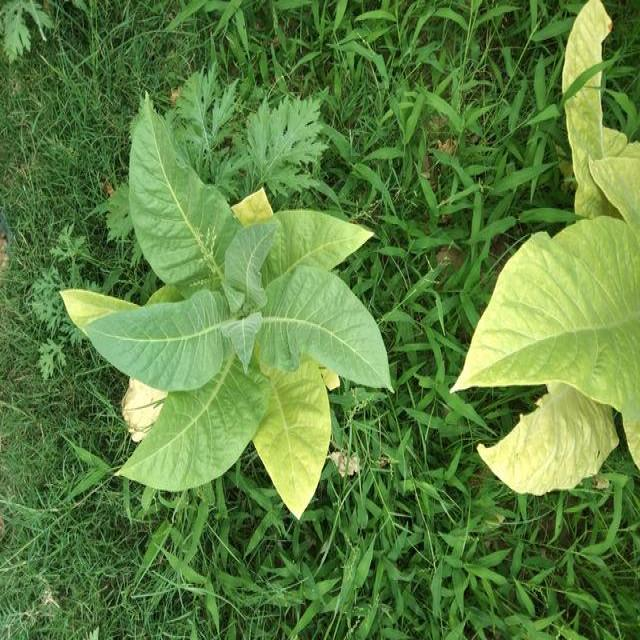crop: (56, 96, 391, 522)
